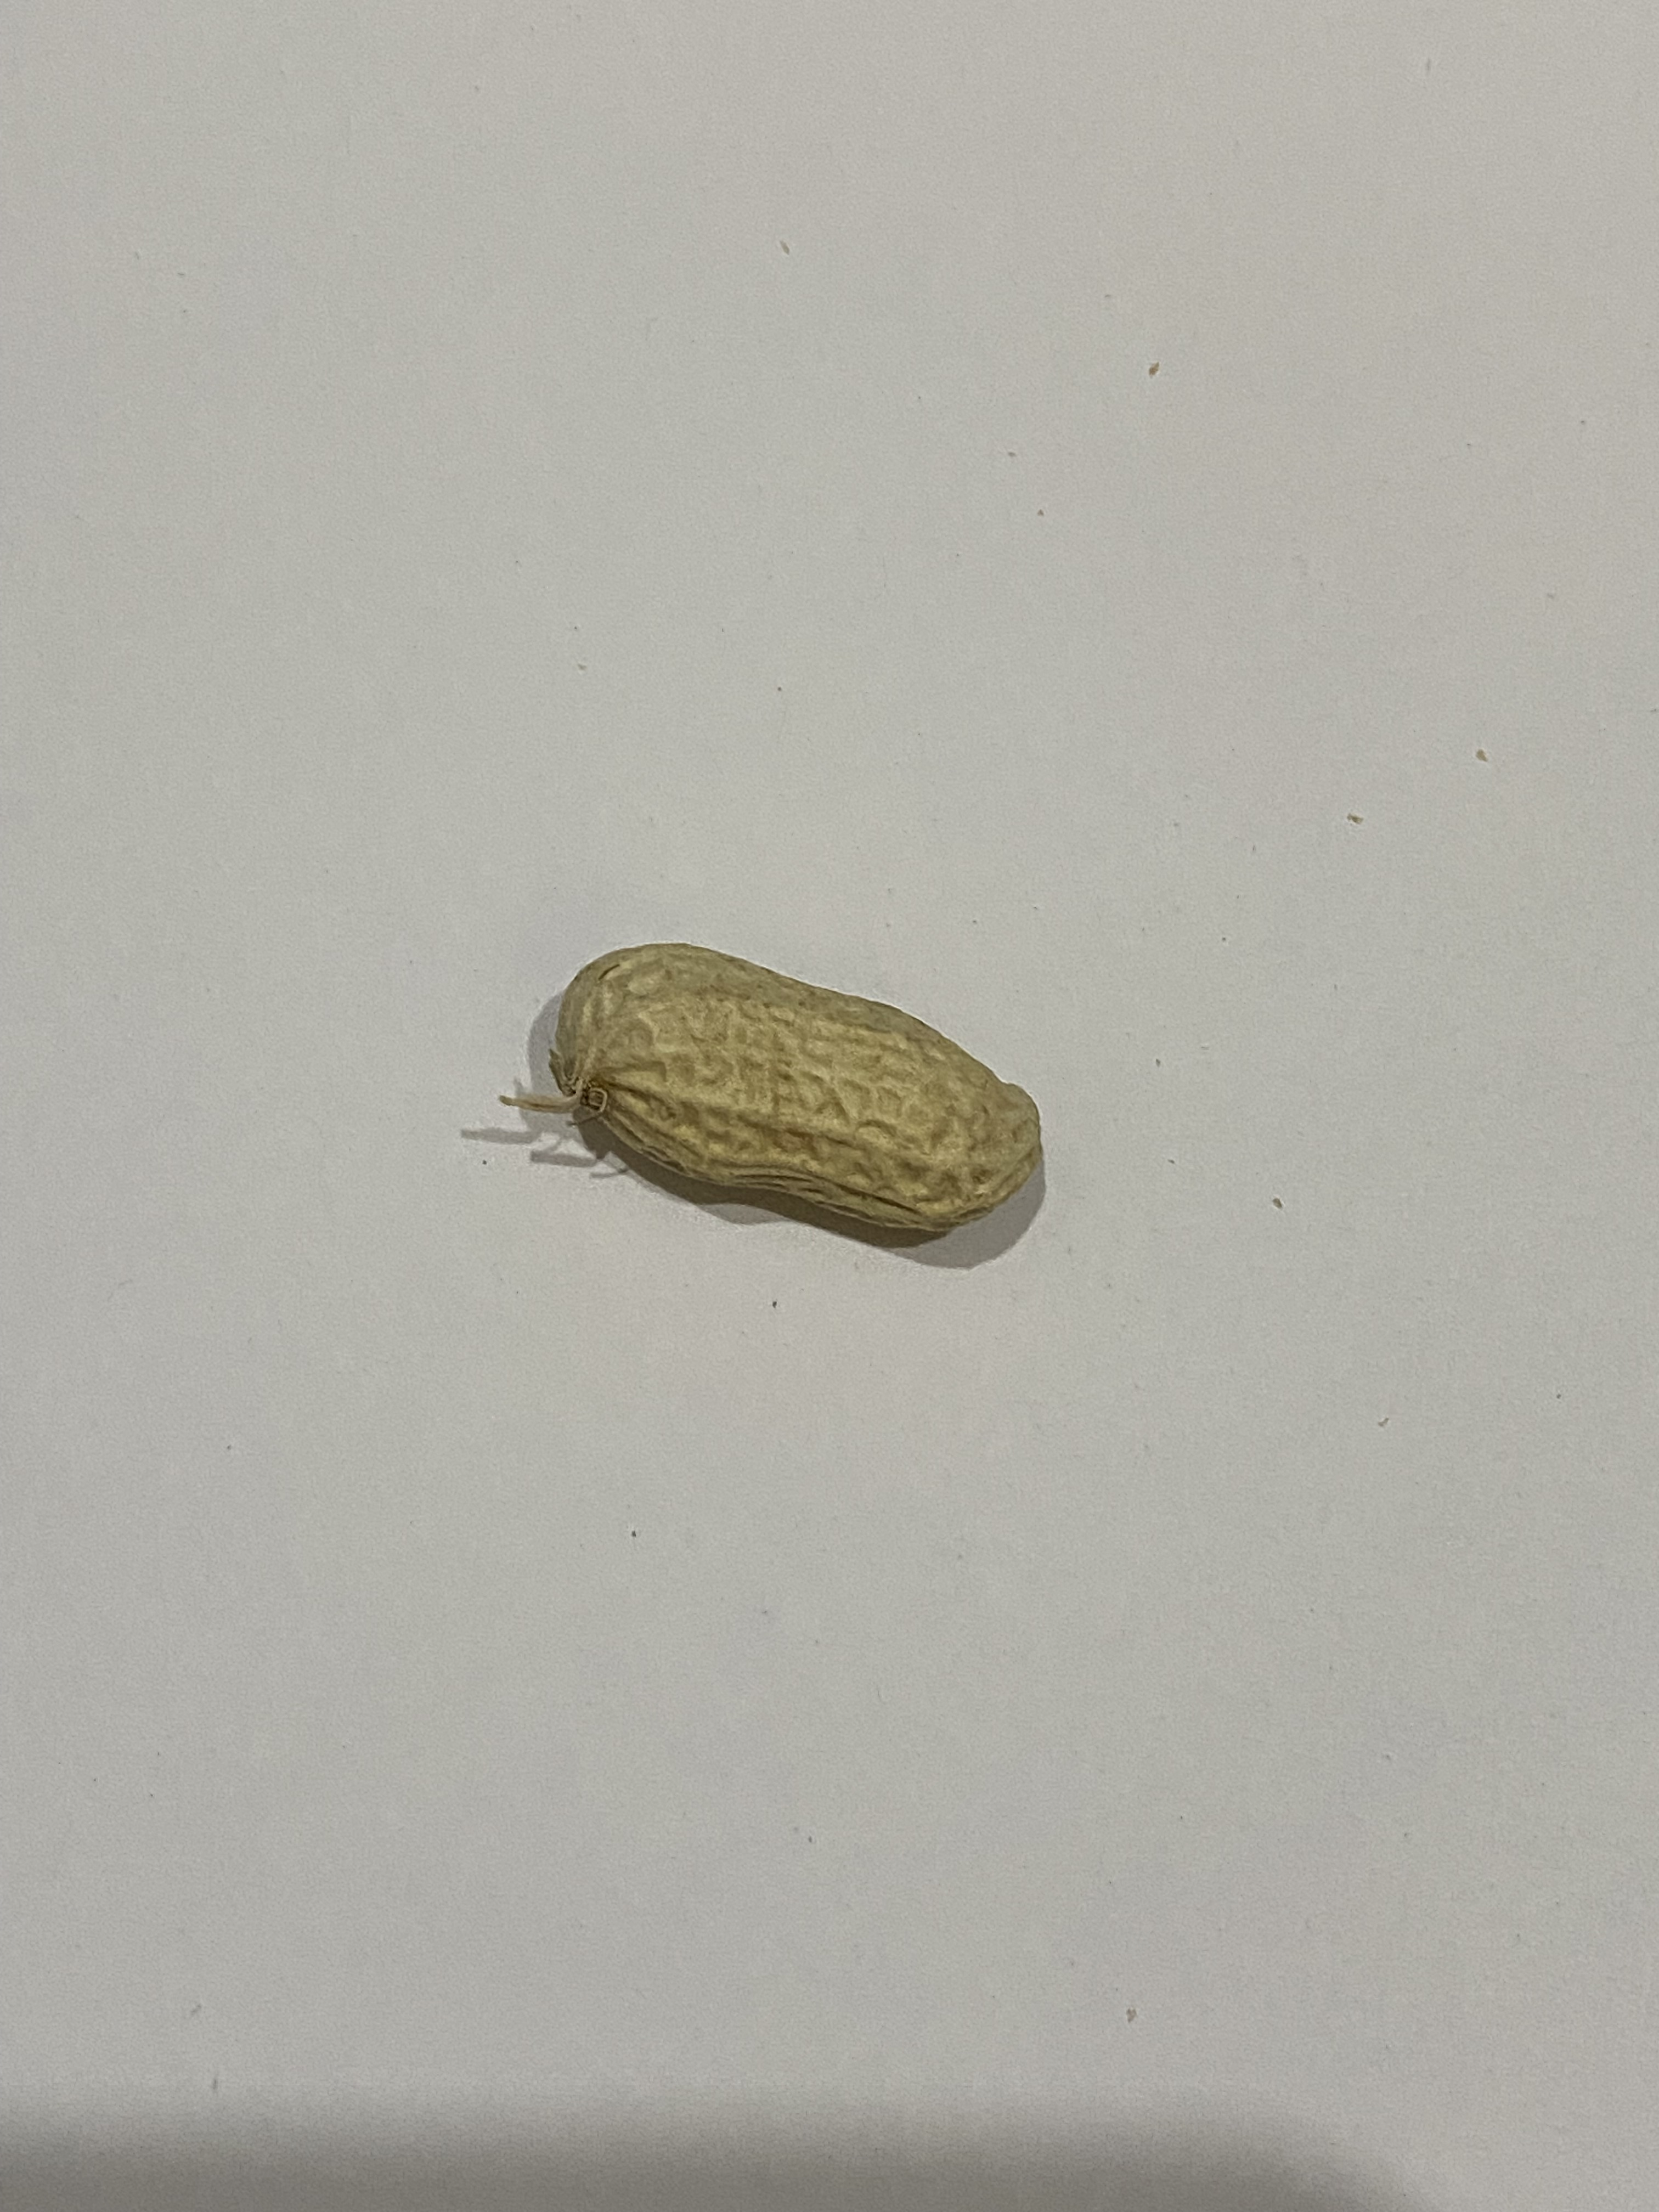kacang2: (495, 932, 1054, 1244)
